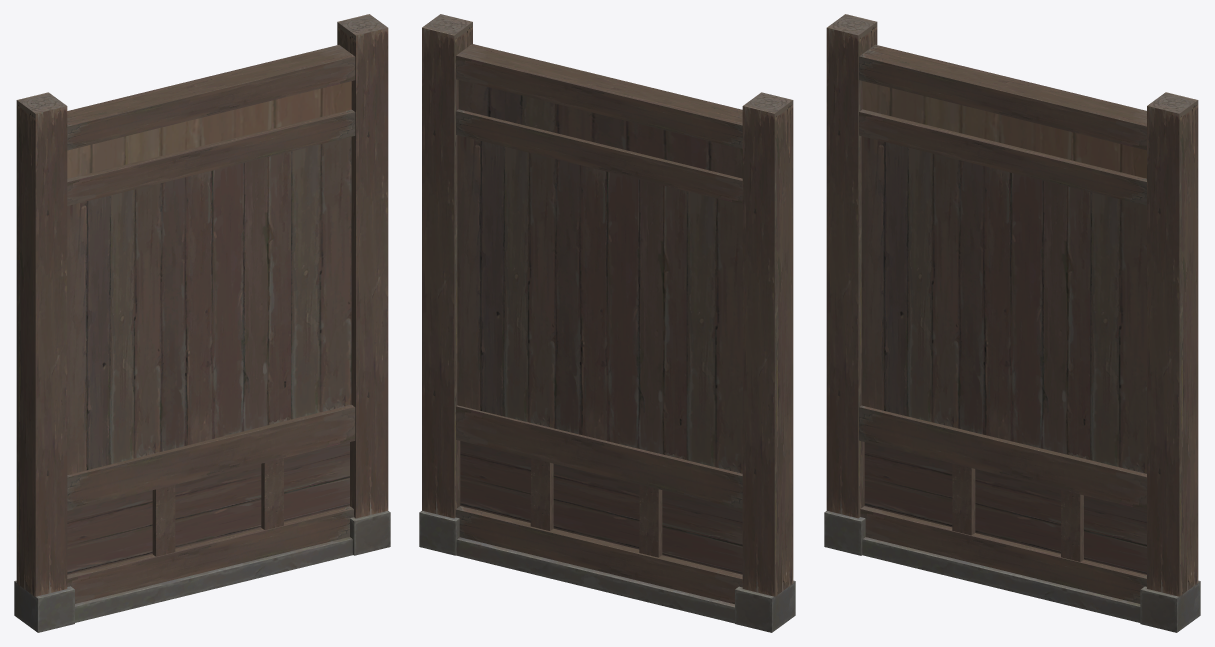
Rendered from Homeworld_Exterior_Common_Thing_Wenquanqiang_01_Vo.fbx.
The picture shows the model from 3 angles, left to right: view 1: azimuth 30°, elevation 25°; view 2: azimuth 150°, elevation 25°; view 3: azimuth 330°, elevation 25°; orthographic projection.
Visible parts, largest first — view 1: Homeworld_Exterior_Common_Thing_Wenquanqiang_01_Vo; view 2: Homeworld_Exterior_Common_Thing_Wenquanqiang_01_Vo; view 3: Homeworld_Exterior_Common_Thing_Wenquanqiang_01_Vo.
Boxes of the visible parts, <box> form: Homeworld_Exterior_Common_Thing_Wenquanqiang_01_Vo: <box>14,14,390,632</box>; Homeworld_Exterior_Common_Thing_Wenquanqiang_01_Vo: <box>419,14,795,632</box>; Homeworld_Exterior_Common_Thing_Wenquanqiang_01_Vo: <box>824,14,1200,632</box>.
Bounding box in the file's own units: 2.26 × 3.17 × 0.2651.
